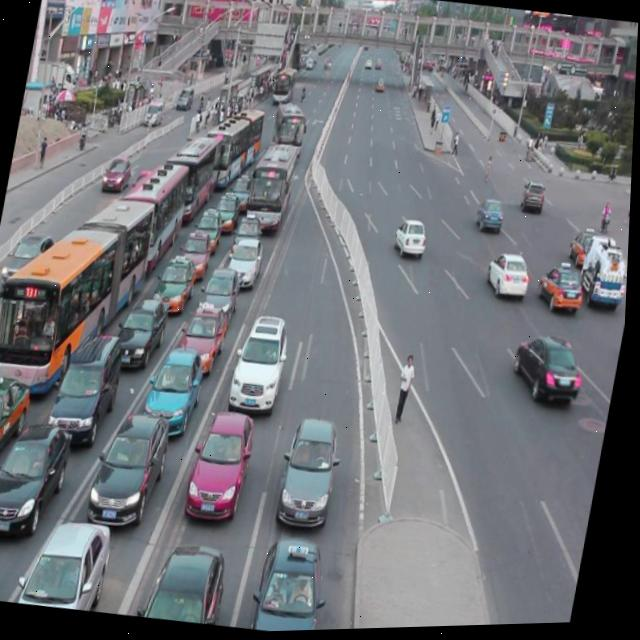bus: (578, 234, 631, 312)
car: (21, 508, 121, 615), (93, 402, 179, 524), (51, 323, 132, 439), (0, 414, 80, 531), (254, 534, 340, 634), (144, 537, 237, 629), (280, 412, 352, 524), (190, 407, 263, 513), (231, 309, 297, 410), (510, 331, 592, 410), (147, 340, 211, 429), (117, 287, 175, 365), (179, 297, 234, 371), (0, 367, 36, 471), (4, 228, 63, 288), (536, 260, 590, 316), (200, 263, 247, 325), (157, 251, 204, 311), (484, 253, 535, 304), (180, 223, 219, 275), (231, 232, 269, 284), (394, 217, 432, 261), (568, 226, 604, 271), (194, 203, 229, 249), (235, 207, 267, 254), (229, 167, 260, 208), (215, 186, 245, 227), (475, 198, 508, 234), (104, 156, 135, 192), (521, 181, 548, 217), (132, 167, 155, 198), (0, 515, 8, 600)
van: (0, 179, 162, 400), (110, 150, 196, 273), (203, 96, 269, 184), (245, 140, 302, 238), (166, 126, 223, 218), (268, 103, 311, 165)
